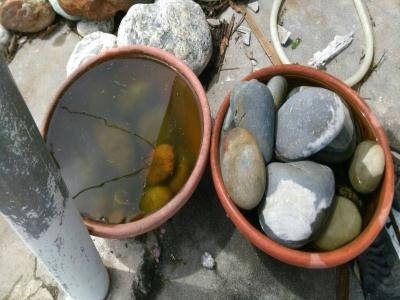bowl: (210, 62, 396, 273), (32, 42, 212, 243)
